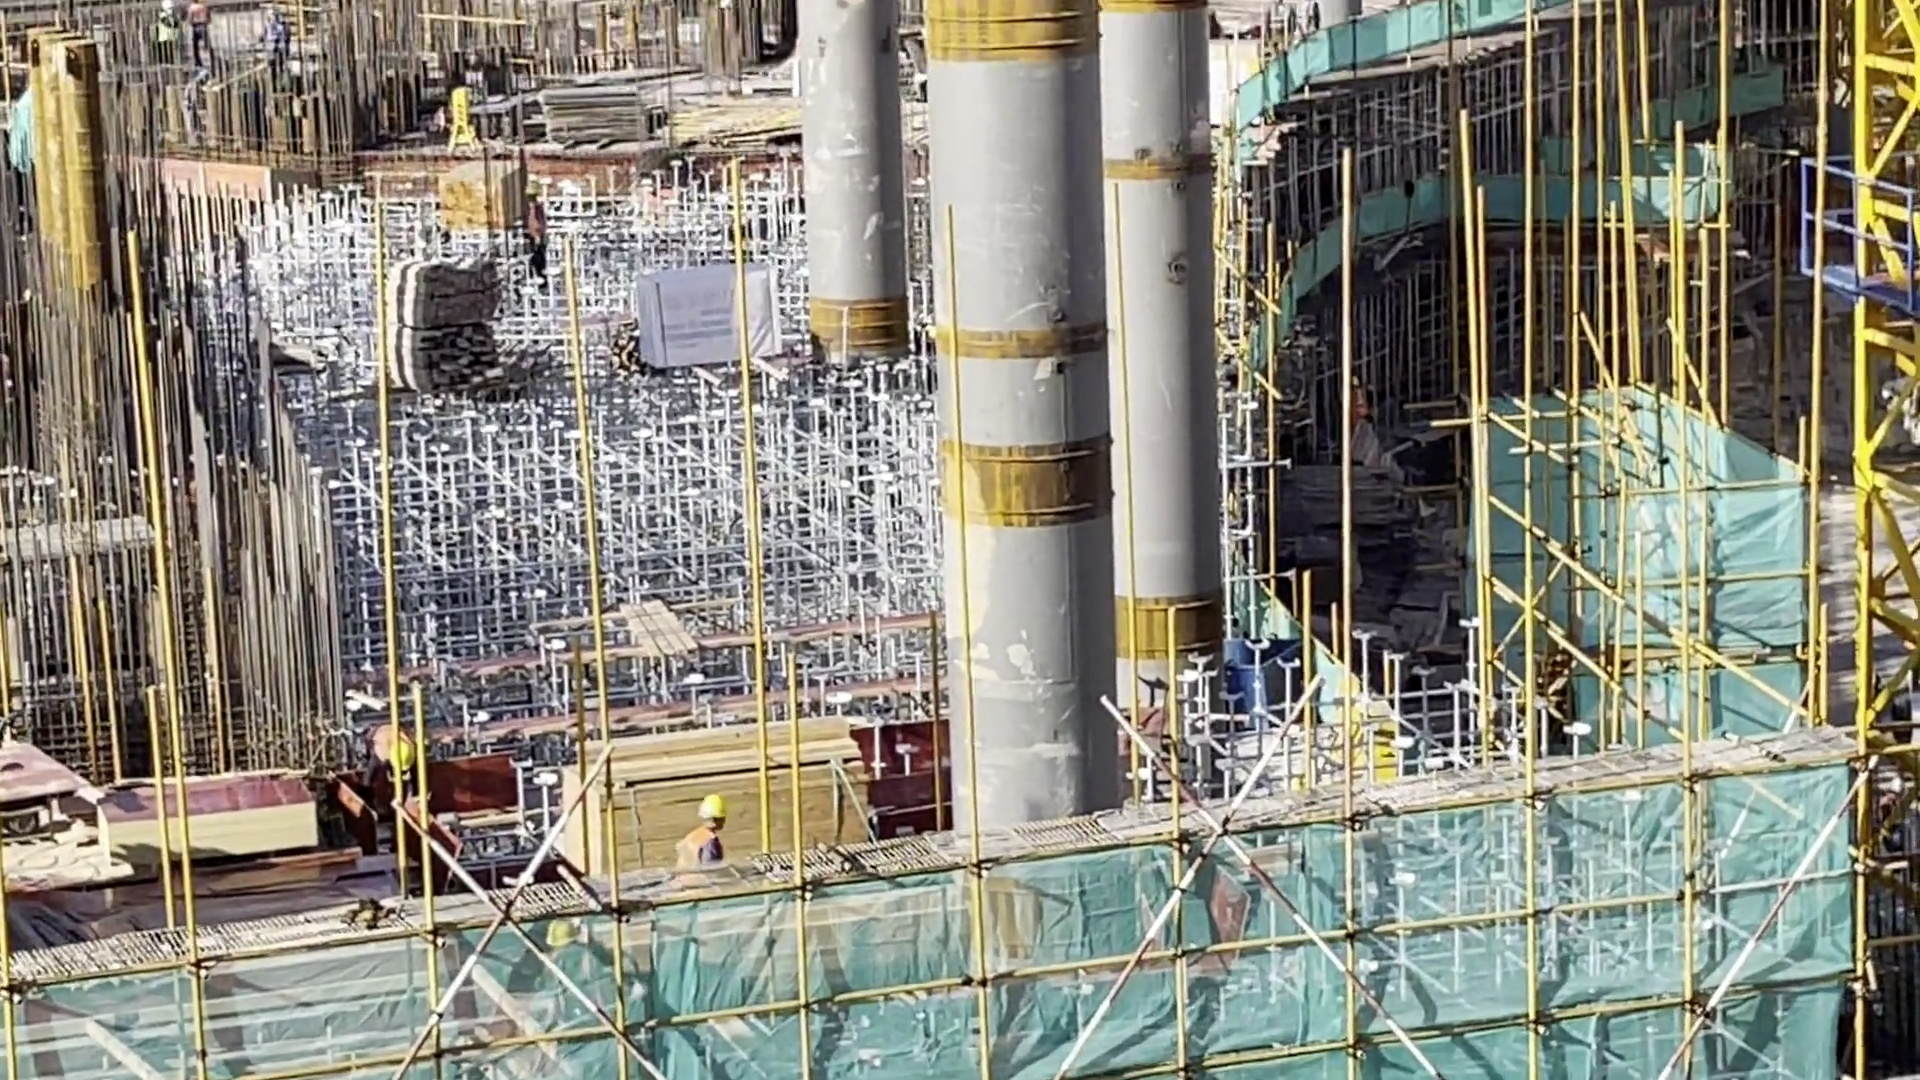helmet: (689, 787, 737, 831)
person: (666, 791, 738, 868)
vest: (667, 824, 726, 872)
